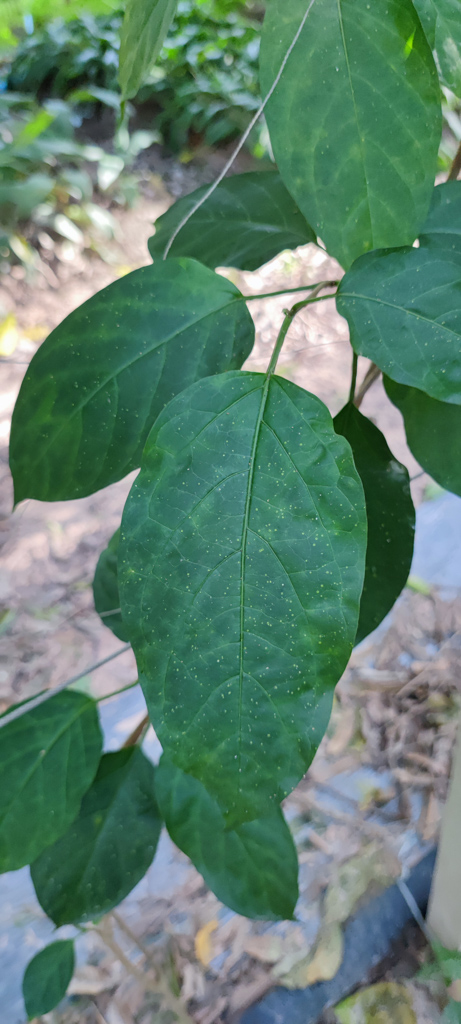Rust: (144, 425, 340, 814)
